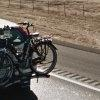Bicycle: (1, 21, 58, 86)
